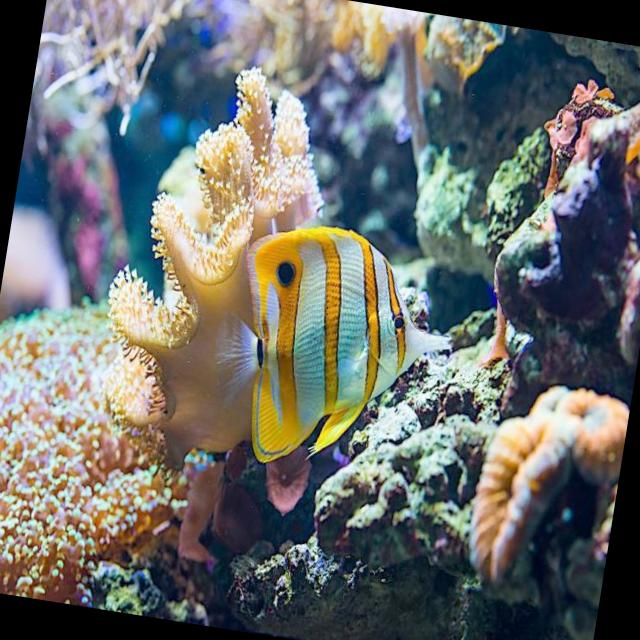ButterflyFish: (204, 212, 464, 485)
